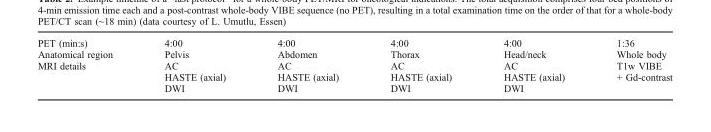table: (36, 36, 671, 93)
table column: (363, 36, 477, 93), (137, 36, 250, 93), (250, 36, 363, 93), (477, 36, 589, 93), (36, 36, 137, 93), (589, 36, 671, 93)
table row: (36, 59, 671, 93), (36, 47, 671, 59), (36, 36, 671, 47)
